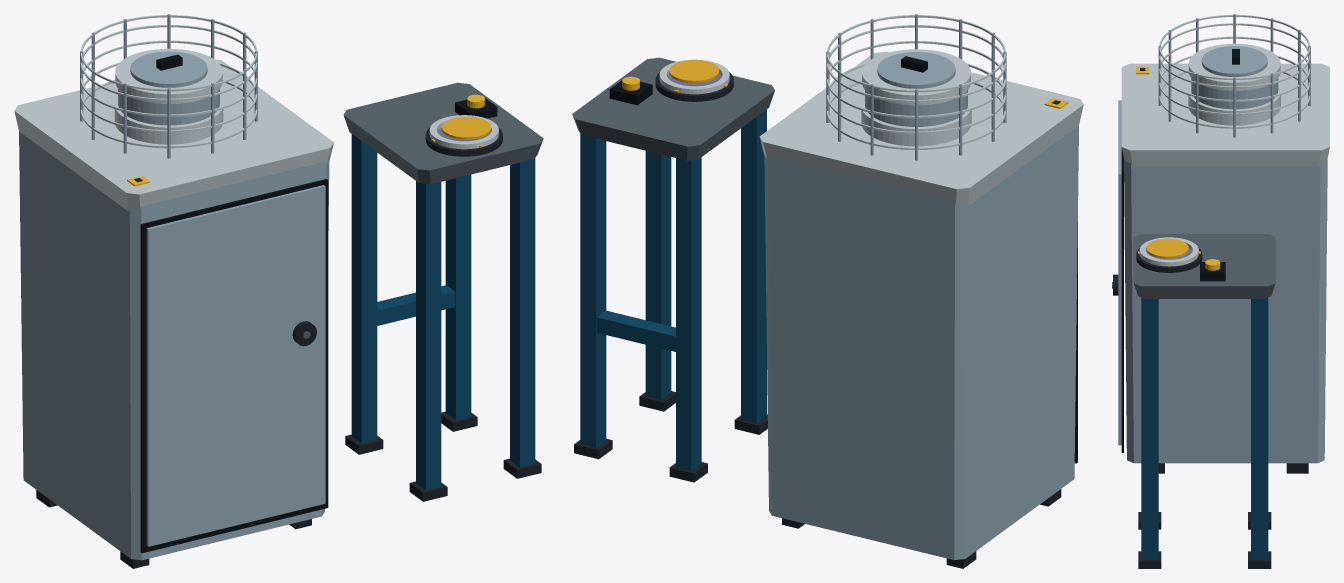
File: savannah-s100.glb
3 views of the same model, side by side, from view 1: azimuth 30°, elevation 25°; view 2: azimuth 150°, elevation 25°; view 3: azimuth 270°, elevation 25° (orthographic). The views are drawn at different scales.
Visible parts, largest first — view 1: cabinet_face, cabinet, witness_bench, cabinet_top, chamber_witness, fixed_guard, dry_gauge, dummy, inspect_button; view 2: cabinet, witness_bench, cabinet_top, chamber_witness, fixed_guard, dry_gauge, dummy, inspect_button; view 3: cabinet, witness_bench, cabinet_top, chamber_witness, fixed_guard, cabinet_face, dry_gauge, dummy, inspect_button, feet.
Part boxes in pixels (box(x1,y1,x2,y2)): cabinet_face: box(140, 179, 328, 553); cabinet: box(19, 131, 329, 560); witness_bench: box(343, 82, 543, 501); cabinet_top: box(14, 59, 333, 211); chamber_witness: box(114, 48, 223, 144); fixed_guard: box(80, 14, 257, 158); dry_gauge: box(425, 115, 502, 156); dummy: box(442, 116, 491, 139); inspect_button: box(455, 94, 497, 118); cabinet: box(764, 125, 1078, 560); witness_bench: box(572, 57, 774, 482); cabinet_top: box(759, 51, 1083, 206); chamber_witness: box(861, 49, 971, 146); fixed_guard: box(826, 14, 1006, 160); dry_gauge: box(655, 59, 733, 101); dummy: box(669, 59, 719, 82); inspect_button: box(609, 76, 652, 105); cabinet: box(1124, 159, 1327, 463); witness_bench: box(1133, 234, 1275, 568); cabinet_top: box(1121, 63, 1329, 166); chamber_witness: box(1188, 43, 1280, 125); fixed_guard: box(1158, 14, 1310, 137); cabinet_face: box(1118, 100, 1123, 452); dry_gauge: box(1136, 237, 1202, 272); dummy: box(1146, 238, 1188, 258); inspect_button: box(1200, 259, 1225, 281); feet: box(1158, 463, 1308, 473).
Size of the model in its own units: 0.991 by 1.02 by 0.516.
